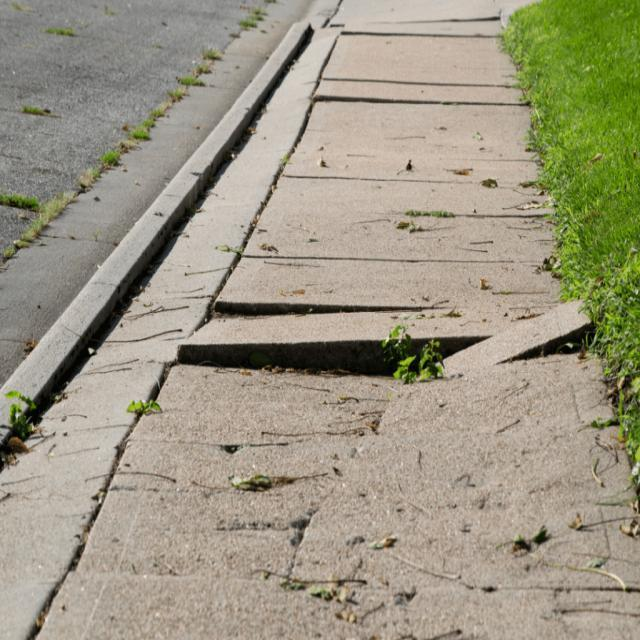hole: (162, 288, 610, 394)
